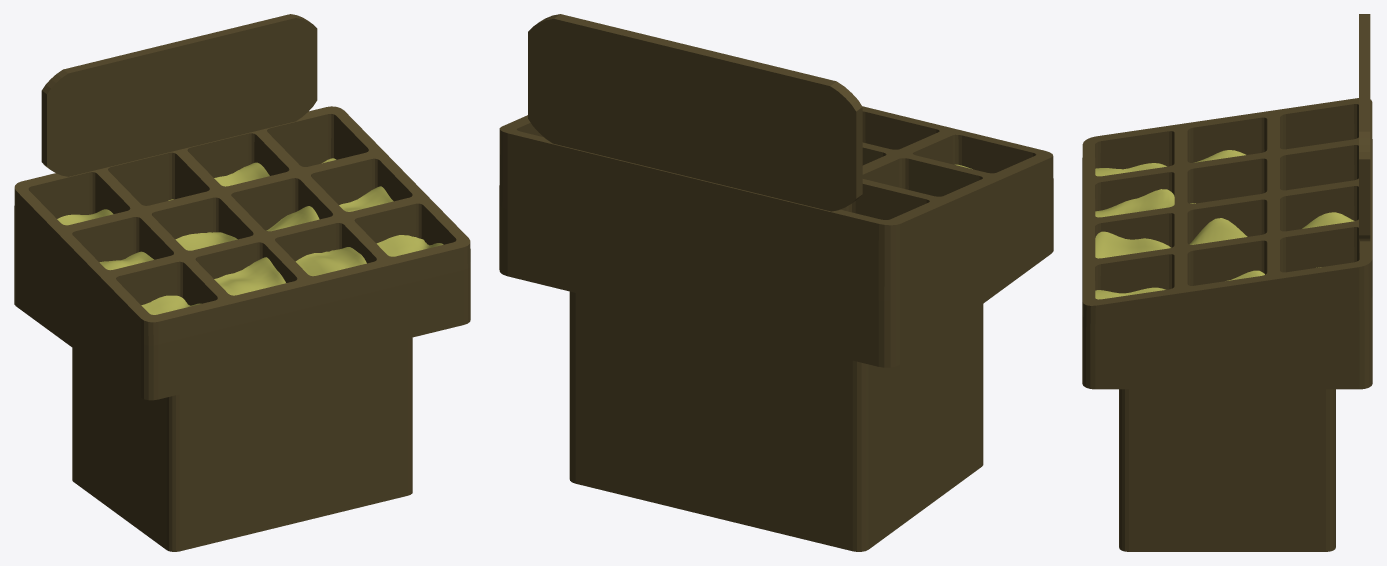
File: timsah_tezgah_2.fbx
The picture shows the model from 3 angles, left to right: view 1: azimuth 30°, elevation 25°; view 2: azimuth 150°, elevation 25°; view 3: azimuth 270°, elevation 25°; orthographic projection. The views are drawn at different scales.
Parts seen in each view (by area): view 1: Plane.019, Plane.020, Cube.017, Plane.018; view 2: Plane.019, Plane.020, Cube.017; view 3: Plane.019, Plane.020, Plane.018, Cube.017.
Boxes of the visible parts, bbox=[...] form: Plane.019: bbox=[14, 106, 470, 400]; Plane.020: bbox=[72, 337, 412, 551]; Cube.017: bbox=[41, 14, 317, 176]; Plane.018: bbox=[57, 158, 443, 314]; Plane.019: bbox=[499, 106, 1053, 367]; Plane.020: bbox=[569, 291, 983, 551]; Cube.017: bbox=[528, 14, 862, 211]; Plane.019: bbox=[1082, 98, 1372, 389]; Plane.020: bbox=[1119, 389, 1335, 551]; Plane.018: bbox=[1095, 150, 1354, 299]; Cube.017: bbox=[1359, 14, 1370, 241].
Size of the model in its own units: 134 by 154 by 96.95.
